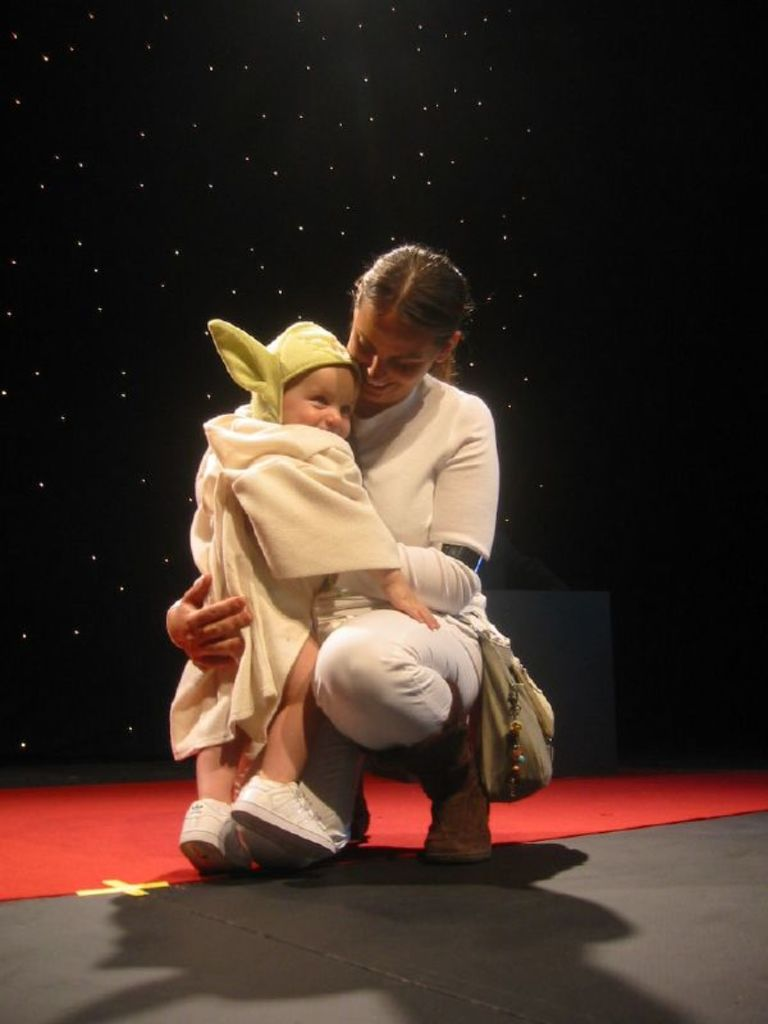Human_hand: (175, 573, 246, 698), (379, 576, 444, 632)
